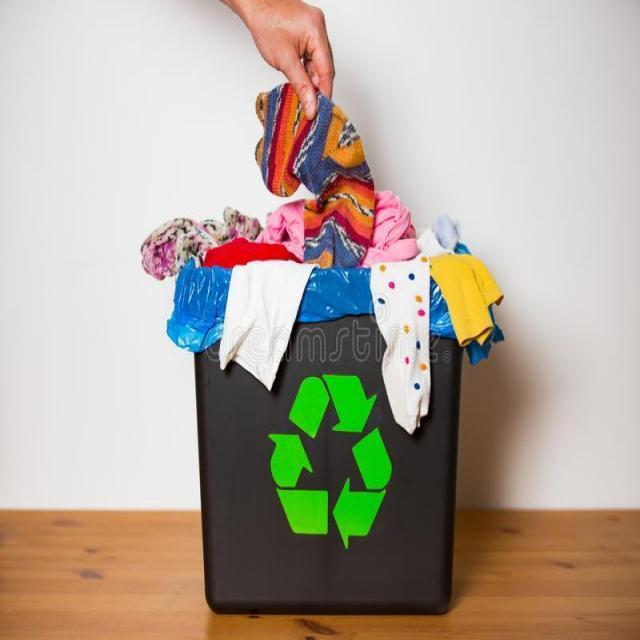clothes: (247, 105, 384, 302)
